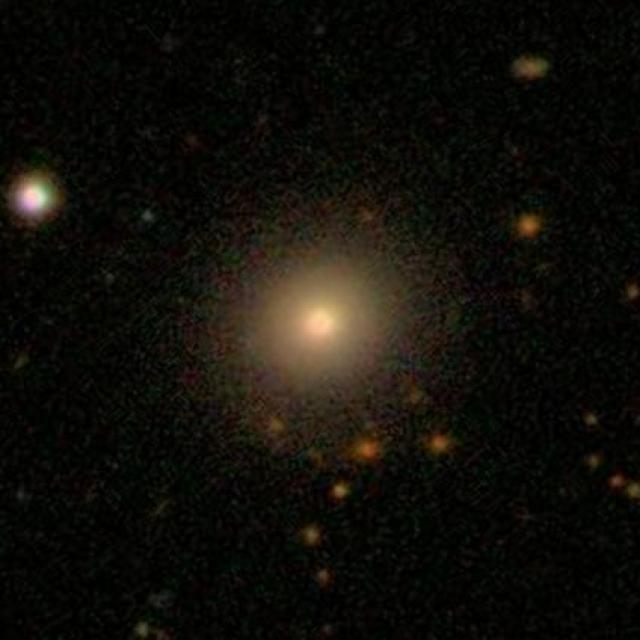galaxy: (194, 202, 470, 452), (7, 175, 70, 235), (509, 52, 552, 82), (297, 522, 335, 553), (514, 210, 549, 243), (426, 428, 458, 464), (348, 437, 389, 464), (330, 480, 354, 506), (135, 205, 161, 228), (314, 566, 338, 590), (134, 617, 149, 640), (584, 453, 602, 471), (606, 473, 625, 489), (628, 480, 640, 504), (585, 413, 600, 431), (625, 285, 638, 304)
